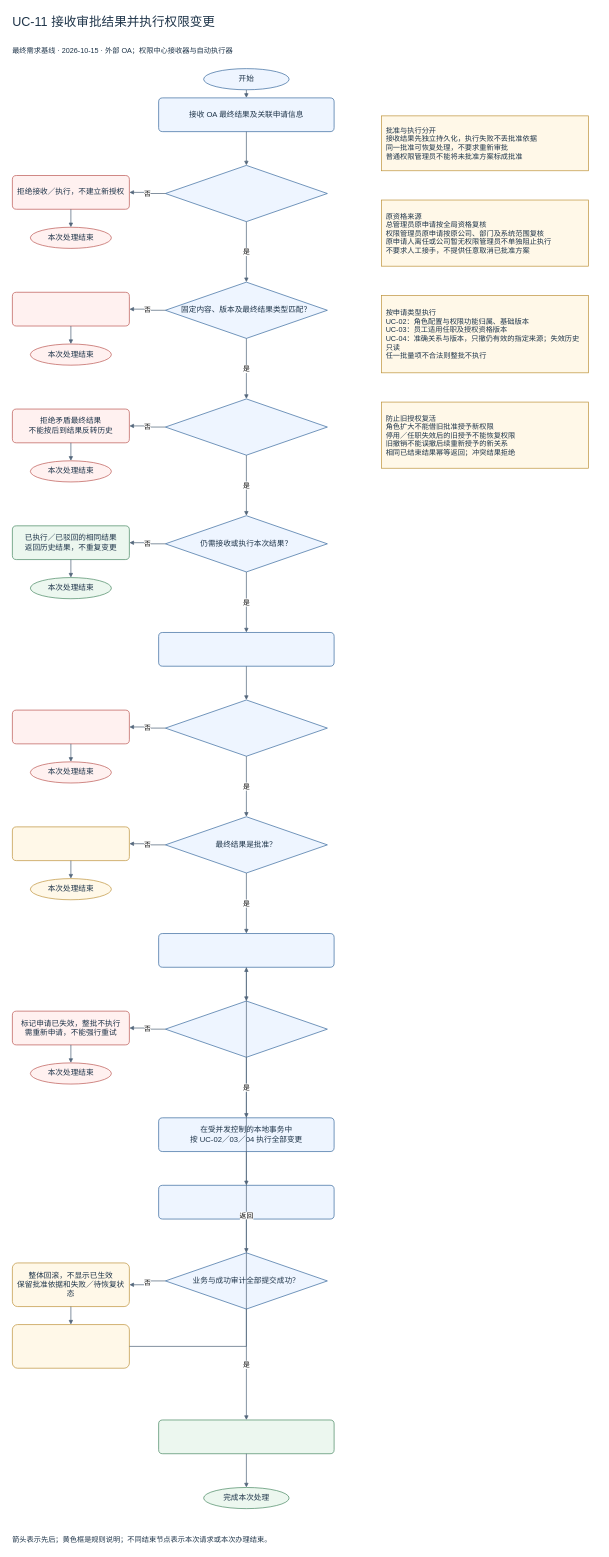
The diagram is 609 pixels wide and 1557 high, and some of its shapes have lost their labels. The shapes that lost their labels are listed below. From the top down, each one's box as (x1, y1, x2, y2) in pixels, then its label:
(165, 165, 328, 222): 服务身份、参数与申请关联合法？
(12, 292, 130, 326): 拒绝不匹配／草稿／非最终结果
(165, 398, 328, 455): 与已记录最终结果不冲突？
(158, 632, 334, 666): 独立事务保存最终结果与接收记录 批准保存为已批准待执行
(12, 710, 130, 744): 返回接收失败，不执行授权 OA 可重送同一结果
(165, 699, 328, 756): 接收结果可靠保存成功？
(12, 826, 130, 861): 保存为已驳回，业务数据不变 修改内容需新方案重新申请
(158, 933, 334, 967): 自动读取固定申请，复核原资格依据 对应范围、目标条件、权限合法性及版本
(165, 1000, 328, 1057): 全部目标仍合法且版本适用？
(158, 1185, 334, 1219): 同事务保存执行状态、目标版本 与成功审计，全部成功才提交
(12, 1324, 130, 1368): 故障恢复后服务端自动重试 仍复核原依据、全部条件与版本
(158, 1419, 334, 1454): 记录执行成功，返回接收及执行状态 后续权限查询使用实际已提交数据
